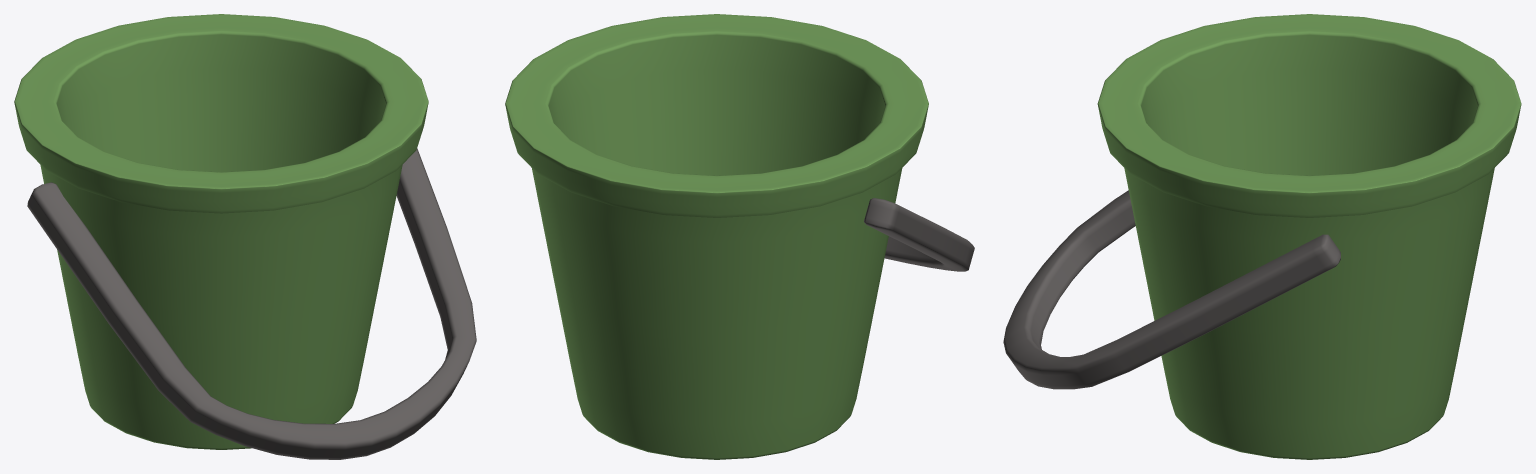
The model's file is Bucket.fbx.
3 views of the same model, side by side, from view 1: azimuth 30°, elevation 25°; view 2: azimuth 150°, elevation 25°; view 3: azimuth 270°, elevation 25° (orthographic). The views are drawn at different scales.
Visible parts, largest first — view 1: Bucket_geo, Bucket_hold1; view 2: Bucket_geo, Bucket_hold1; view 3: Bucket_geo, Bucket_hold1.
Boxes of the visible parts, <box> form: Bucket_geo: <box>14,14,428,449</box>; Bucket_hold1: <box>27,148,476,459</box>; Bucket_geo: <box>505,14,928,459</box>; Bucket_hold1: <box>864,198,974,271</box>; Bucket_geo: <box>1097,14,1521,459</box>; Bucket_hold1: <box>1003,190,1340,389</box>.
Size of the model in its own units: 6.59 by 5.1 by 7.87.
